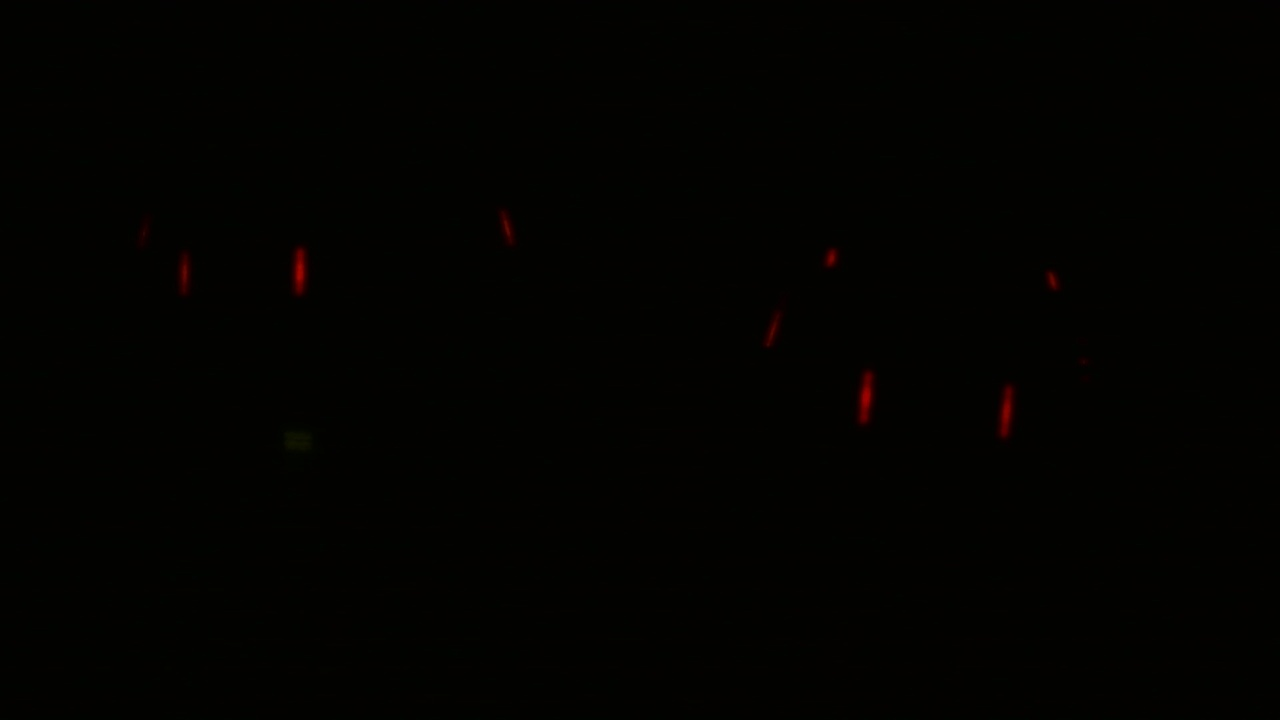pair1: (853, 366, 1013, 444), (169, 244, 312, 304)
